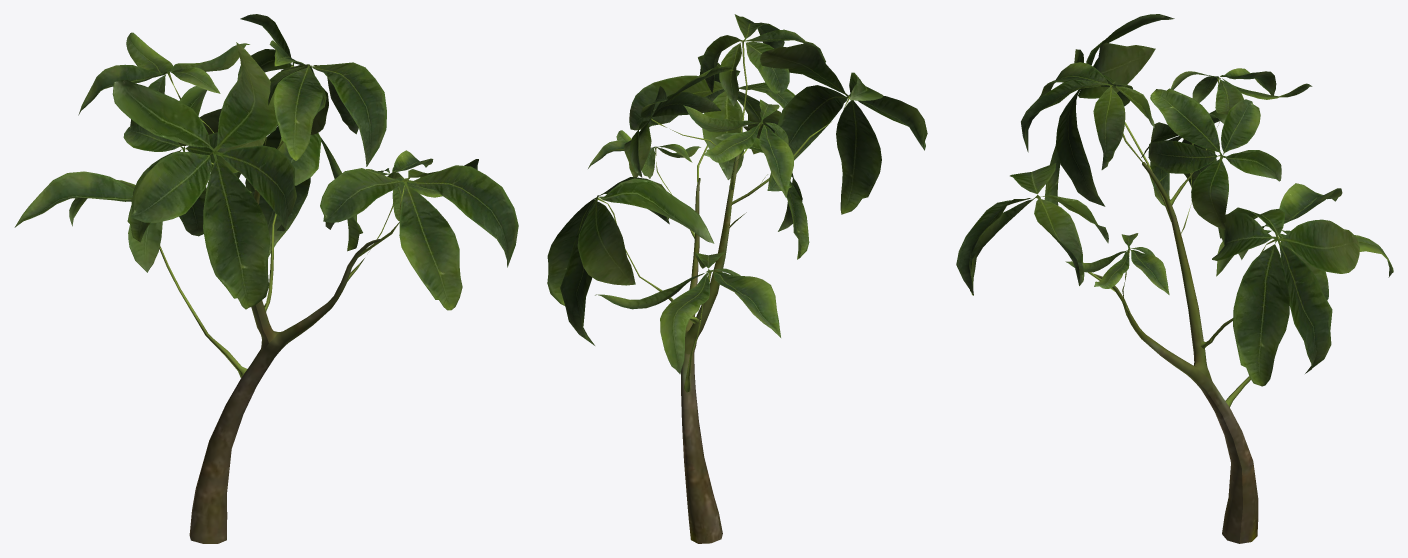
Rendered from monguba_1.glb.
3 views of the same model, side by side, from view 1: azimuth 30°, elevation 25°; view 2: azimuth 150°, elevation 25°; view 3: azimuth 270°, elevation 25° (orthographic). The views are drawn at different scales.
Visible parts, largest first — view 1: monguba; view 2: monguba; view 3: monguba.
Part boxes in pixels (x1=…): monguba: x1=14, y1=14, x2=518, y2=543; monguba: x1=547, y1=14, x2=927, y2=543; monguba: x1=956, y1=14, x2=1393, y2=543.
Size of the model in its own units: 0.5031 by 0.735 by 0.6074.
Materials: 2 (2 with a texture image).
